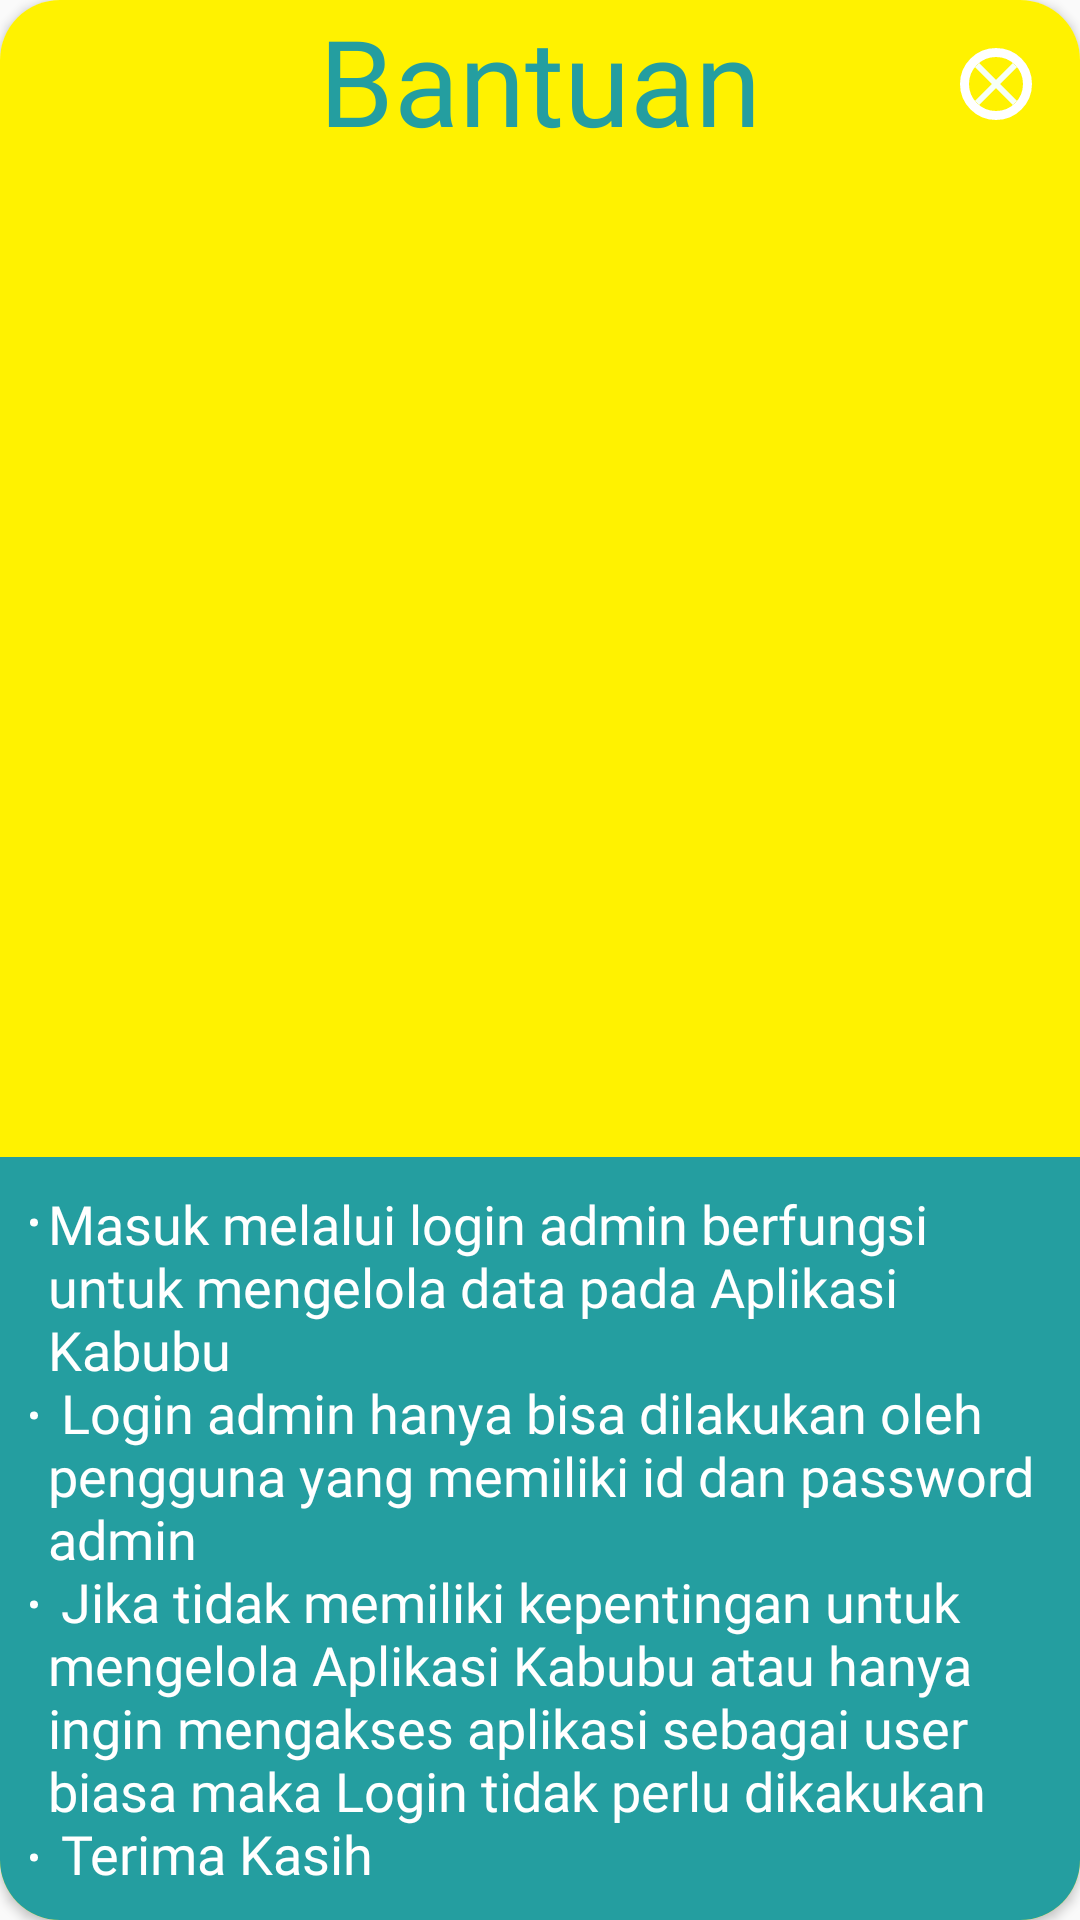

Where icons sit on this 1080px×1920px app screen, as (x1, y1, x2, y2):
close: (960, 48, 1032, 120)
